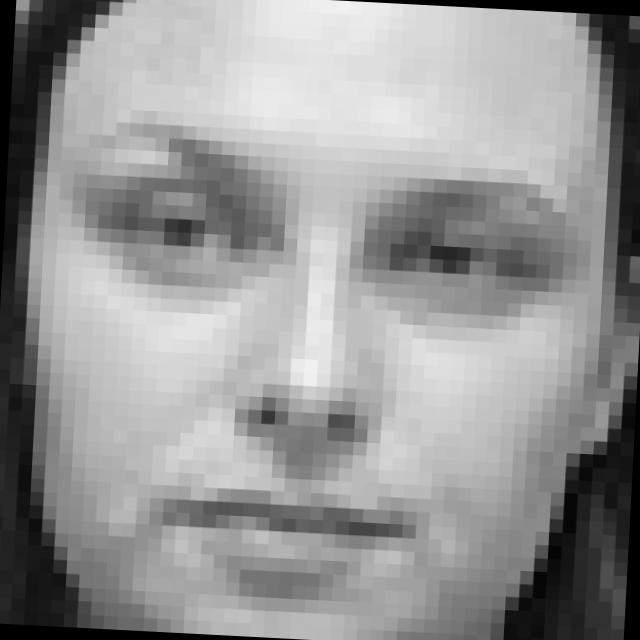neutral: (34, 108, 581, 624)
